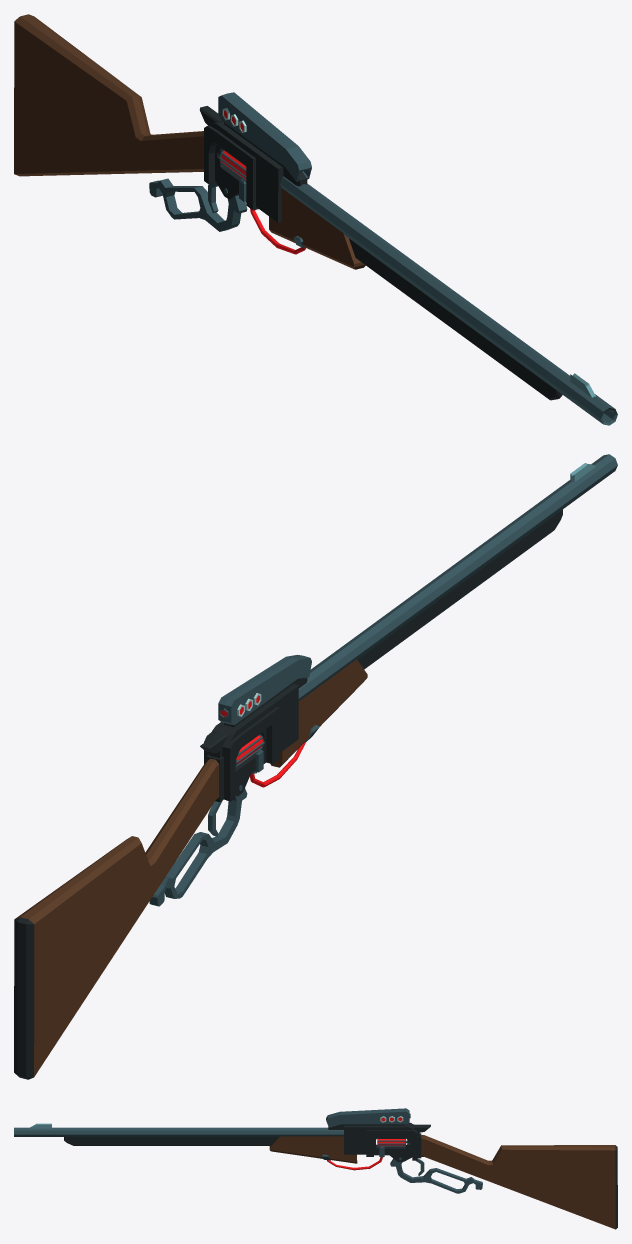
The model's file is Rifle_V01.fbx.
3 views of the same model, one above another, from view 1: azimuth 30°, elevation 25°; view 2: azimuth 150°, elevation 25°; view 3: azimuth 270°, elevation 25° (orthographic). The views are drawn at different scales.
Parts seen in each view (by area): view 1: Rifle_V01; view 2: Rifle_V01; view 3: Rifle_V01, Rifle_battery.
Part boxes in pixels (x1,y1,x2,y2): Rifle_V01: (14,14,617,425); Rifle_V01: (14,454,617,1079); Rifle_V01: (14,1108,617,1229); Rifle_battery: (377,1138,409,1147).
Size of the model in its own units: 2.65 by 21.79 by 100.
